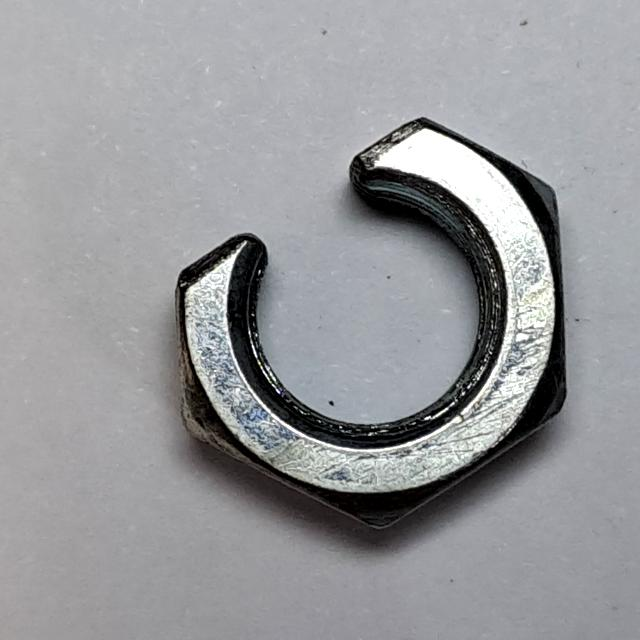Fracture: (160, 102, 583, 548)
